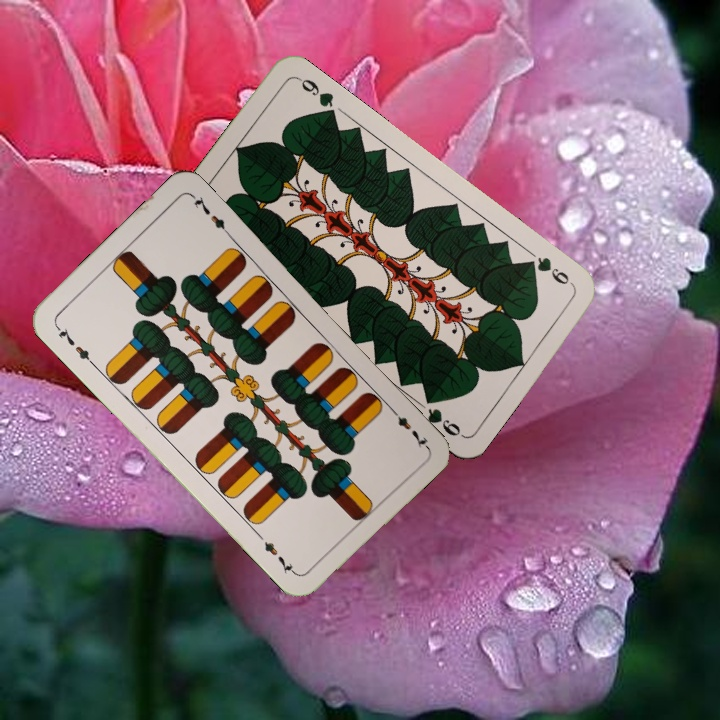E7: (385, 402, 431, 450), (51, 321, 97, 368)
G9: (520, 253, 577, 289)
